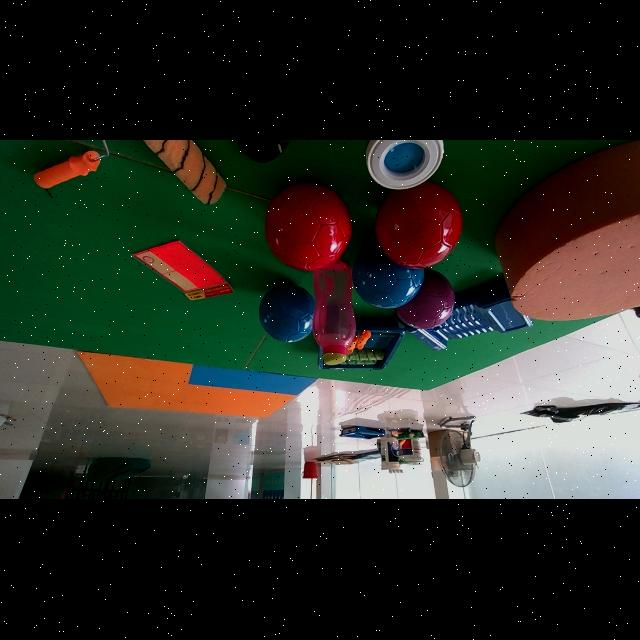B: (352, 243, 424, 309), (259, 284, 314, 343)
P: (396, 269, 456, 330)
R: (265, 183, 352, 272), (375, 182, 462, 269)
